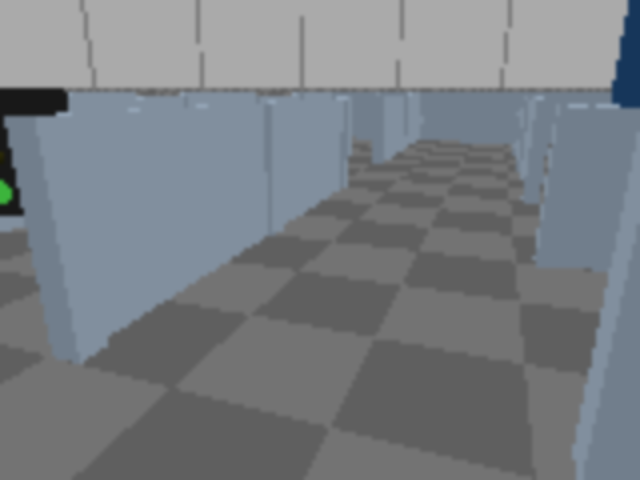person: (594, 0, 638, 212)
